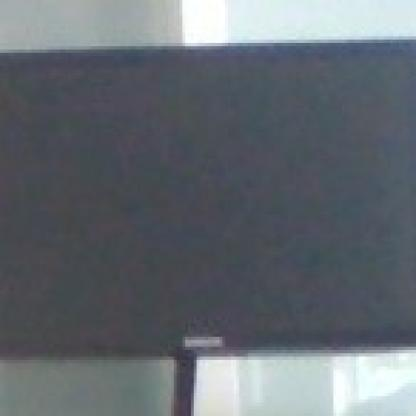not trash: (3, 36, 416, 416)
